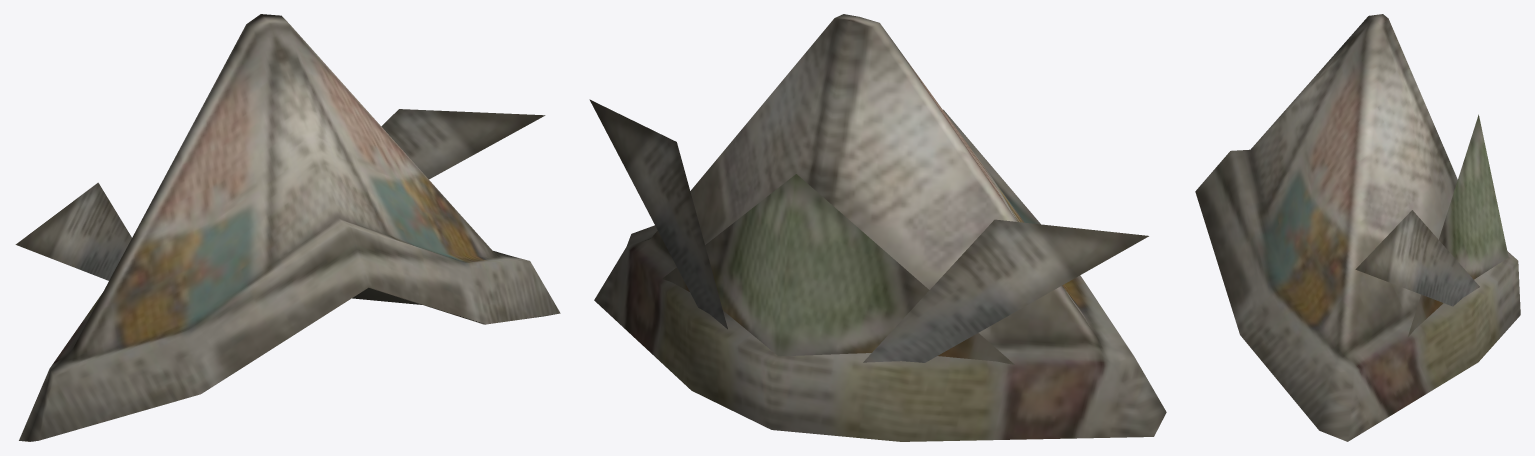
File: paperHat.glb
3 views of the same model, side by side, from view 1: azimuth 30°, elevation 25°; view 2: azimuth 150°, elevation 25°; view 3: azimuth 270°, elevation 25° (orthographic). The views are drawn at different scales.
Parts seen in each view (by area): view 1: paperHat; view 2: paperHat; view 3: paperHat.
Part boxes in pixels (x1,y1,x2,y2): paperHat: (15,14,560,441); paperHat: (589,14,1166,441); paperHat: (1195,14,1520,441).
Size of the model in its own units: 0.4069 by 0.2537 by 0.2423.
1 material, 1 textured.
